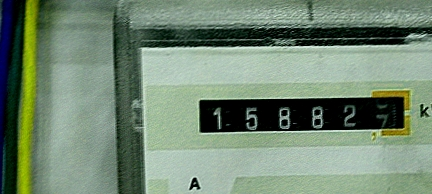1: (209, 104, 224, 132)
2: (340, 102, 357, 130)
5: (241, 104, 260, 132)
7: (373, 112, 389, 129)
8: (274, 104, 291, 132), (308, 103, 324, 131)
screen: (184, 83, 420, 146)
